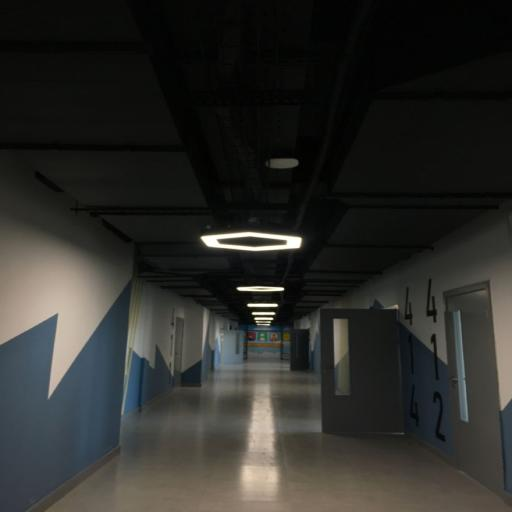child: (0, 0, 512, 512)
corridor: (445, 283, 503, 492), (320, 309, 403, 433), (174, 318, 184, 386)
